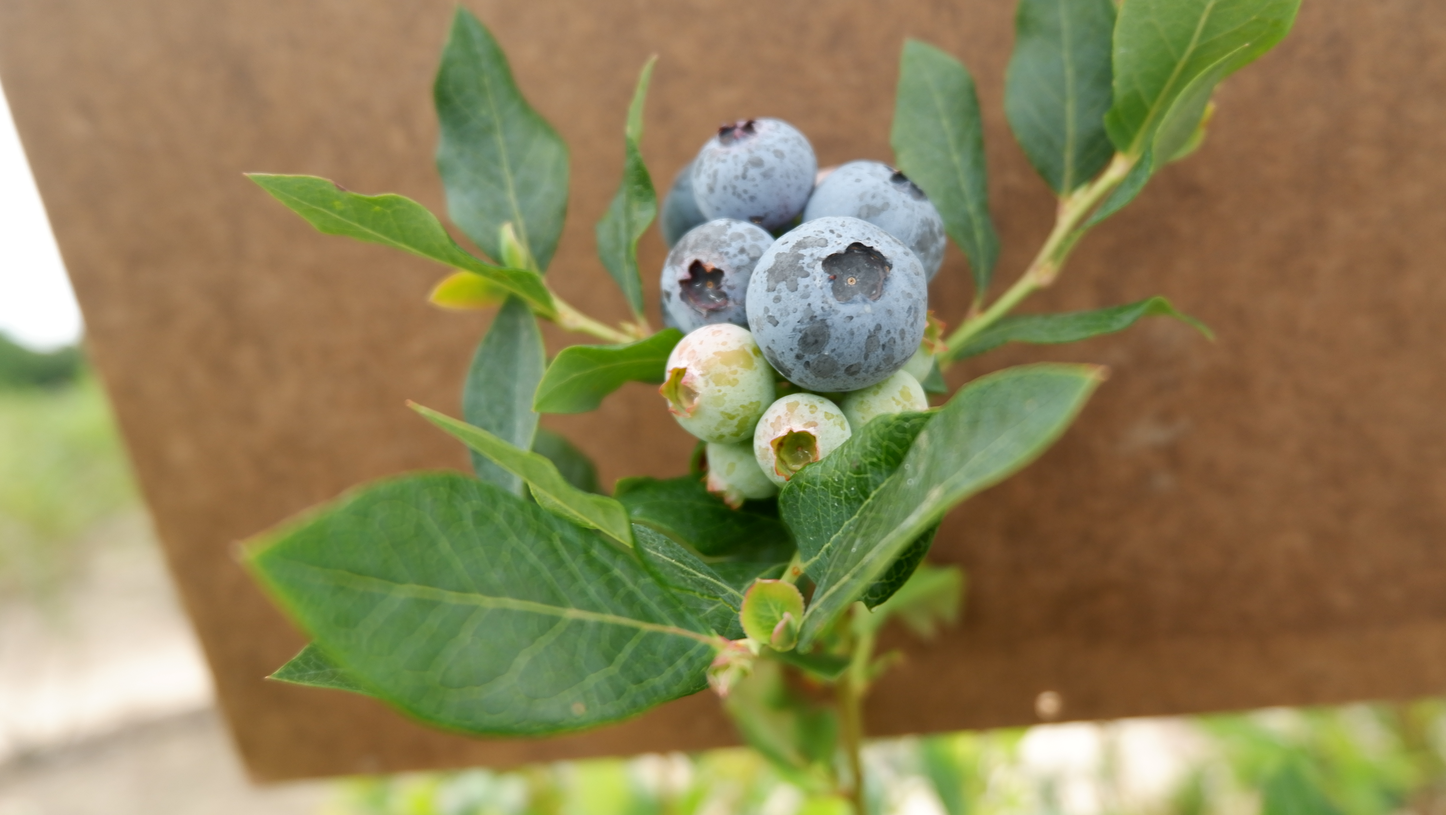Immature: (658, 323, 777, 445), (753, 392, 851, 489), (837, 371, 927, 436), (701, 435, 780, 509), (899, 310, 948, 383)
Mature: (745, 216, 929, 394), (800, 162, 946, 286), (689, 118, 818, 236), (660, 218, 776, 336), (661, 156, 708, 249)
